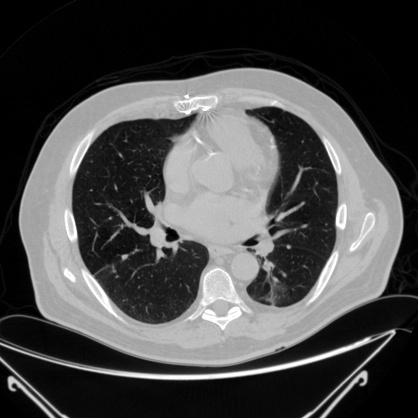PN: (286, 244, 290, 248)
